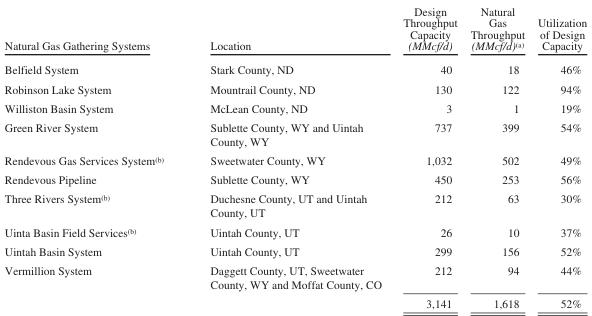table: (3, 4, 586, 309)
table column: (186, 4, 391, 309), (3, 4, 186, 309), (391, 4, 463, 309), (463, 4, 530, 309), (530, 4, 586, 309)
table column header: (3, 4, 586, 57)
table row: (3, 4, 586, 57), (3, 188, 586, 222), (3, 117, 586, 150), (3, 260, 586, 293), (3, 57, 586, 79), (3, 79, 586, 98), (3, 98, 586, 117), (3, 150, 586, 169), (3, 169, 586, 188), (3, 222, 586, 241), (3, 241, 586, 260), (3, 293, 586, 309)
table spanning cell: (3, 260, 186, 309)
